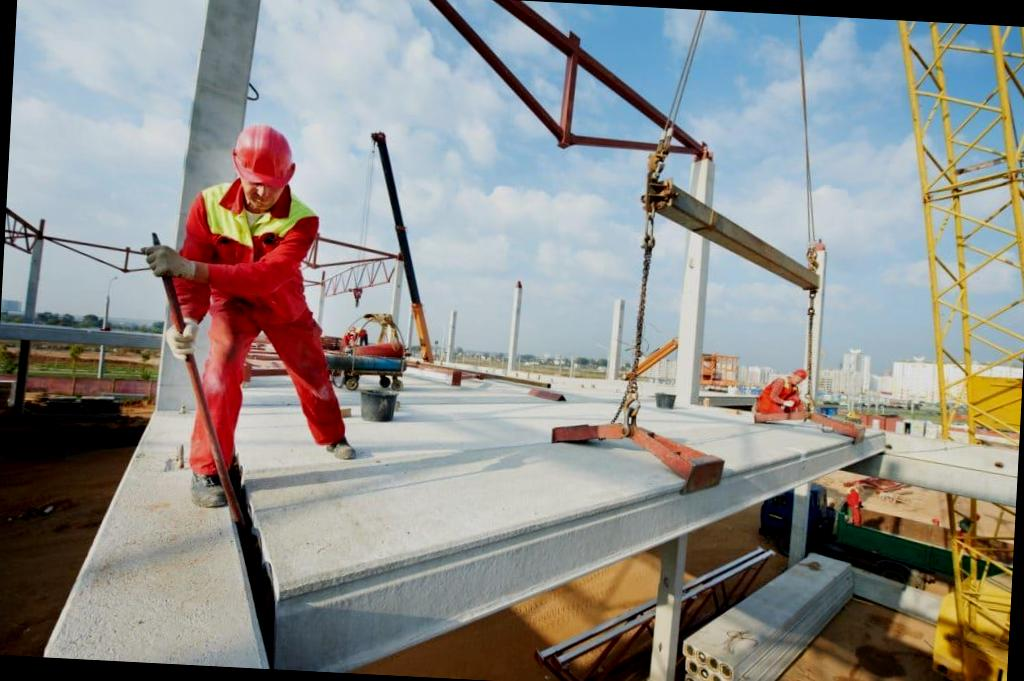helmet: (224, 125, 306, 195)
person: (139, 117, 352, 513)
